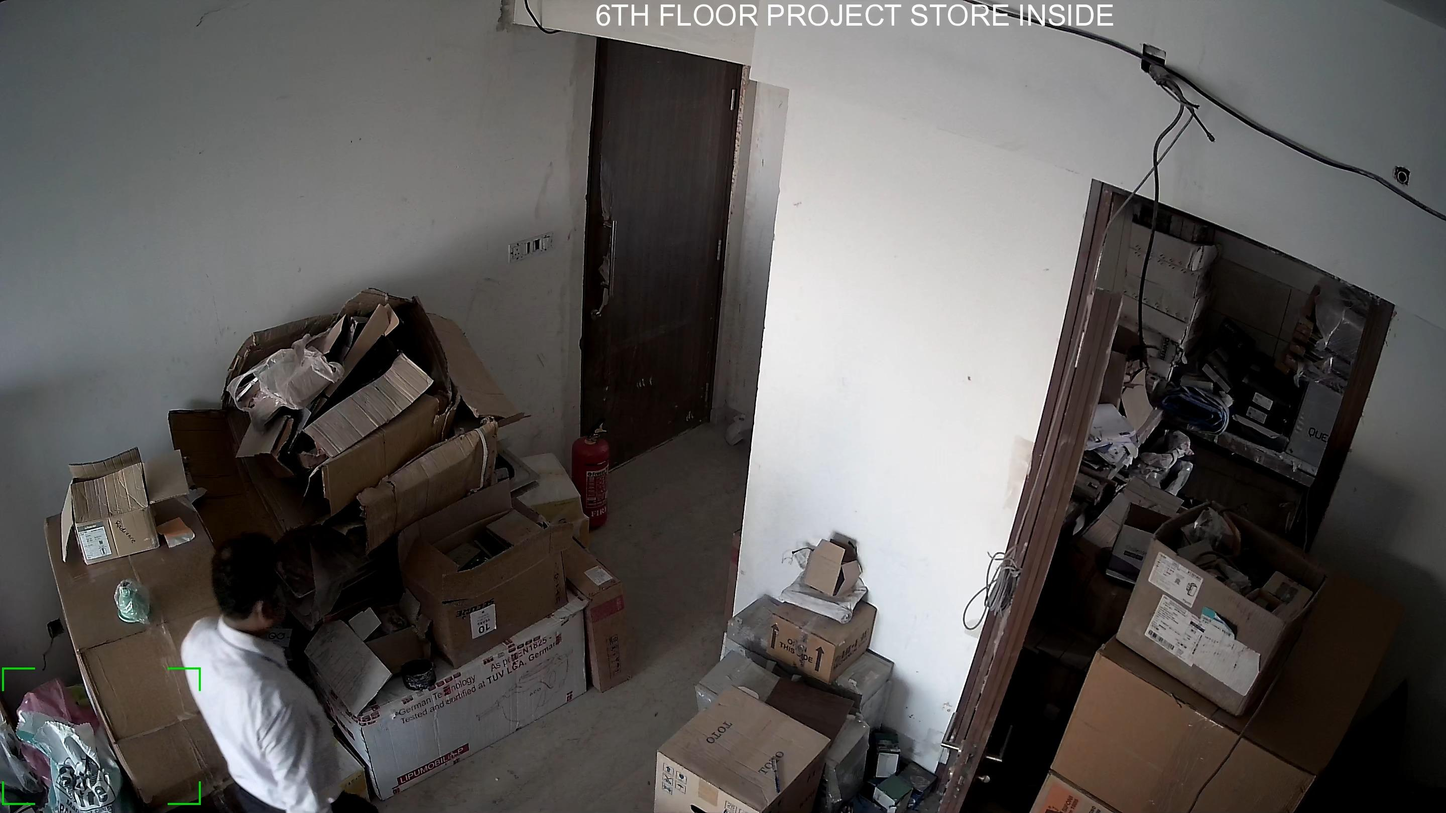Door-Close: (566, 36, 755, 485)
